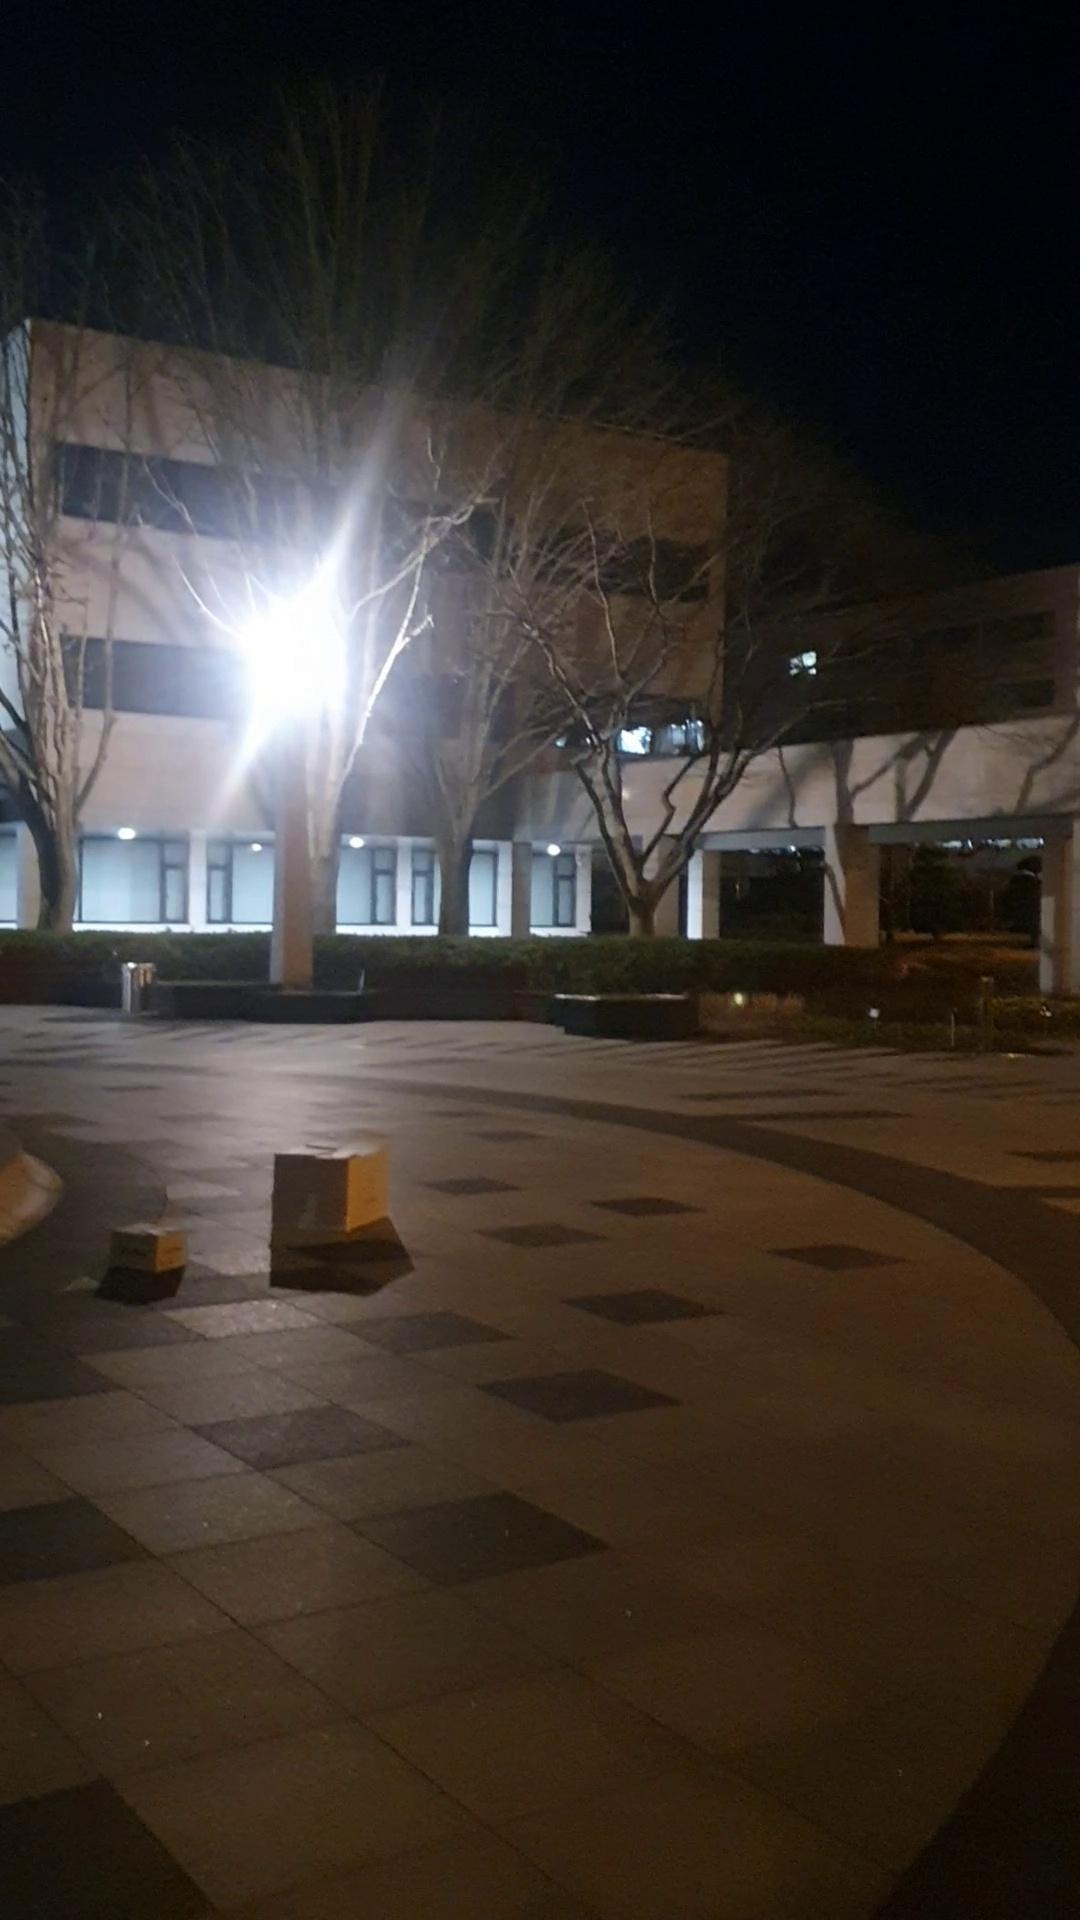Box: (258, 1130, 400, 1257), (108, 1215, 207, 1292)
